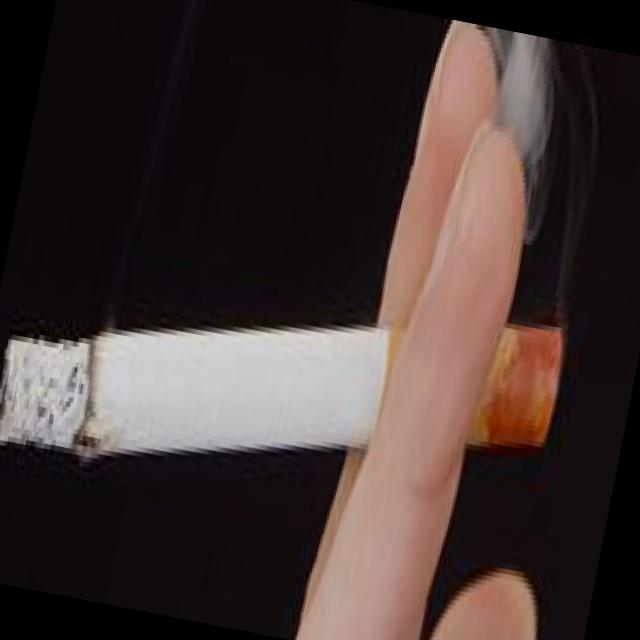smoke: (0, 220, 578, 558)
